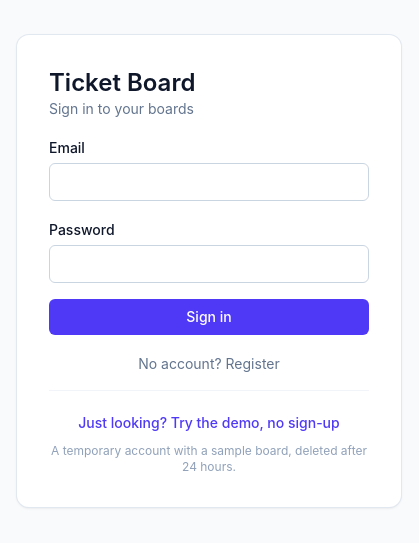
Scenario: LoginPage › shows the server's error message on failure
Type "a@b.com" into the field labelled "Email" at (209, 182), box [49, 163, 369, 201]
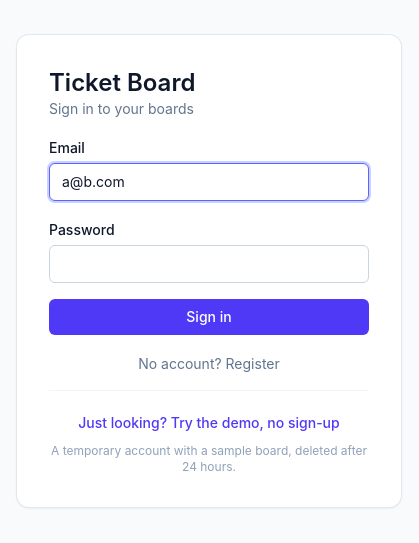
Type "wrong" into the password field labelled "Password" at (209, 264), box [49, 245, 369, 283]
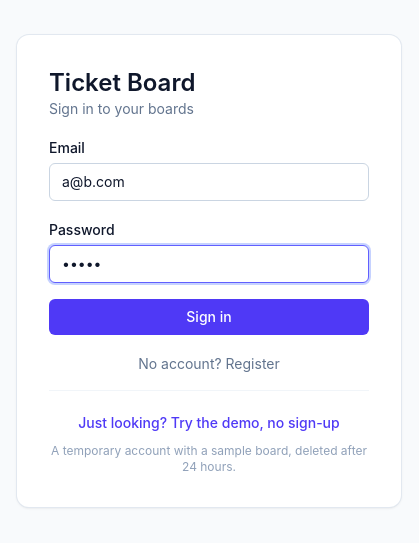
Click the button "Sign in" at (209, 317), box [49, 299, 369, 335]
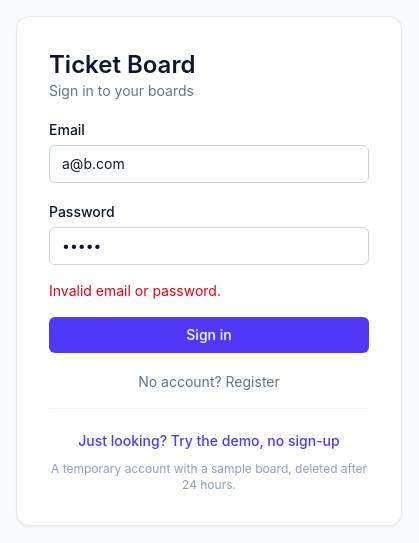
Expected: the message shows "Invalid email or password", [49, 282, 221, 299]
